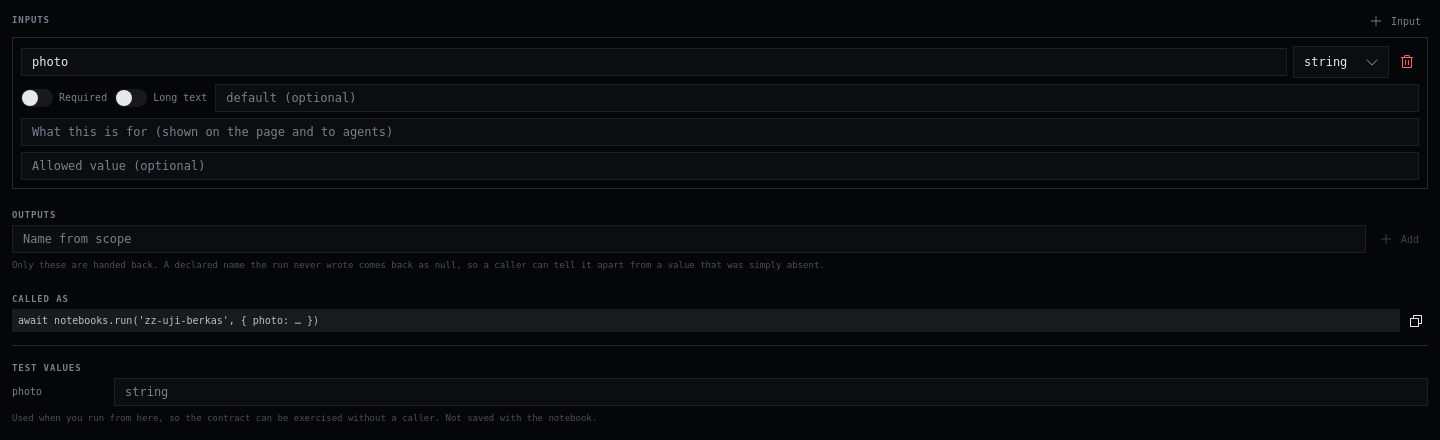
the type of an input › offers every type the contract accepts, file included
Click the dropdown at (1341, 62), box [1293,46,1389,78]
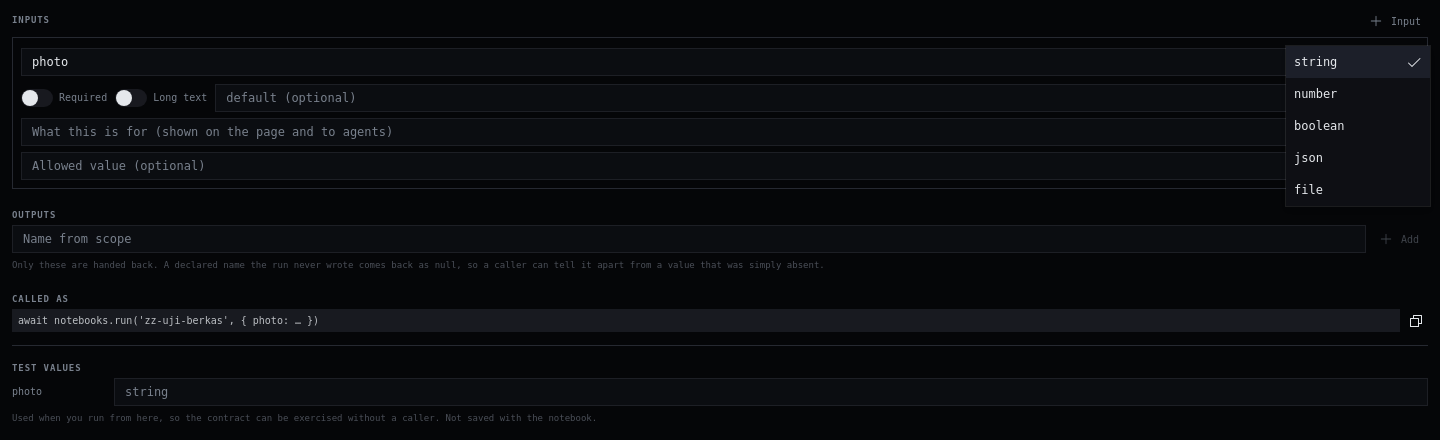
Expected: the options read "string", "number", "boolean", "json", "file", in this order, [1286,46,1430,78]; [1294,87,1337,101]; [1294,119,1345,133]; [1294,151,1323,165]; [1294,183,1323,197]
Expected: the text "file" is shown, [1294,182,1323,198]
